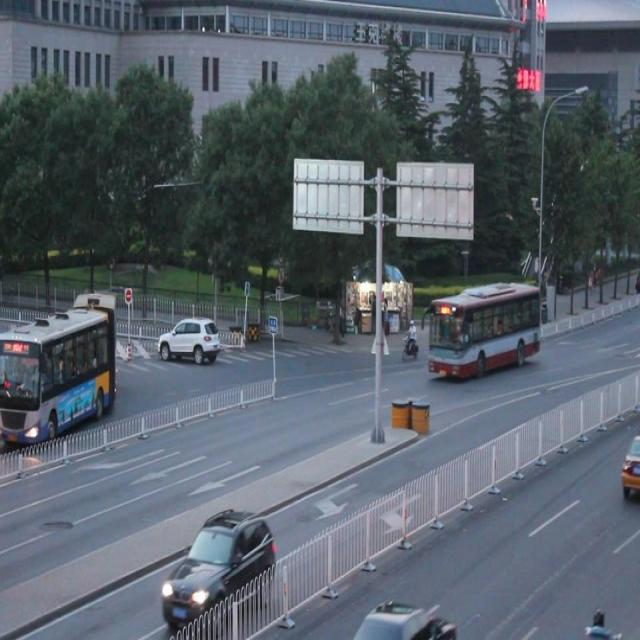car: (161, 504, 275, 626), (353, 589, 455, 640), (158, 312, 220, 362), (619, 428, 640, 492)
van: (1, 288, 118, 441), (425, 278, 540, 380)
